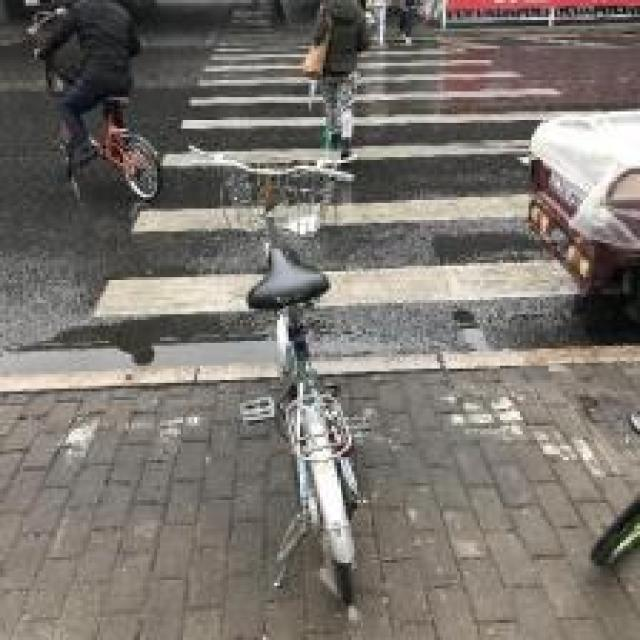crosswalk: (95, 10, 628, 326)
